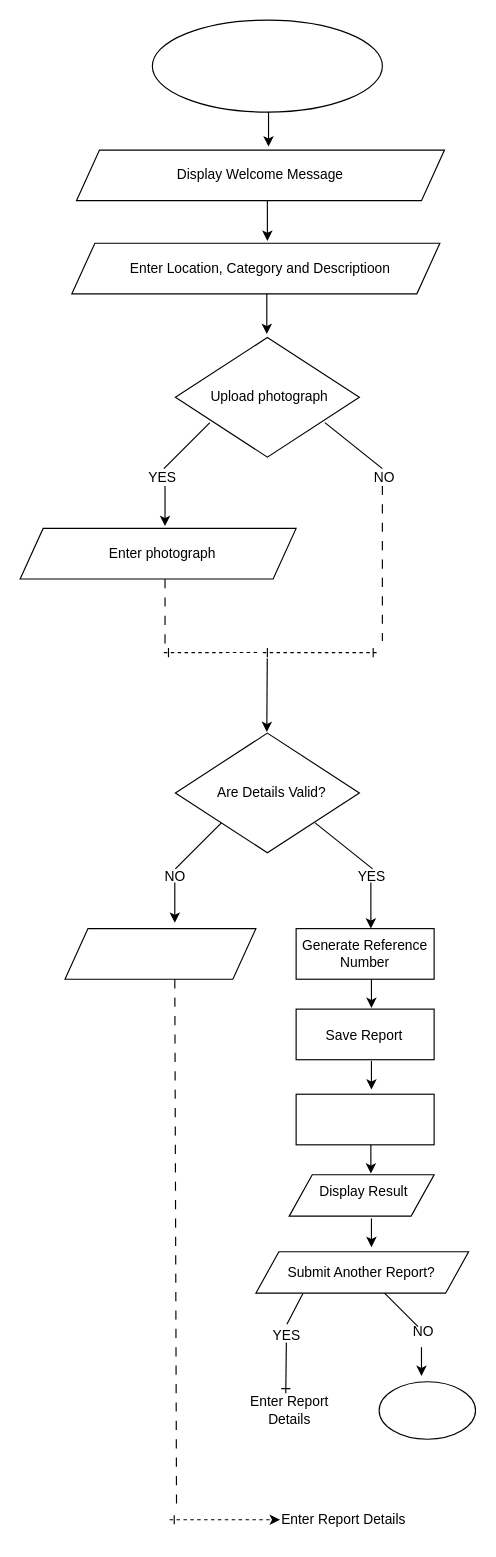
Image size: 496x1557. Some labels were removed from this diagram. The centre of each missing label's shape, as x and y in pixels:
"Display error" goes at point (160, 953).
"END" goes at point (427, 1410).
"Set Status to Pending" goes at point (364, 1119).
"START" goes at point (266, 65).
